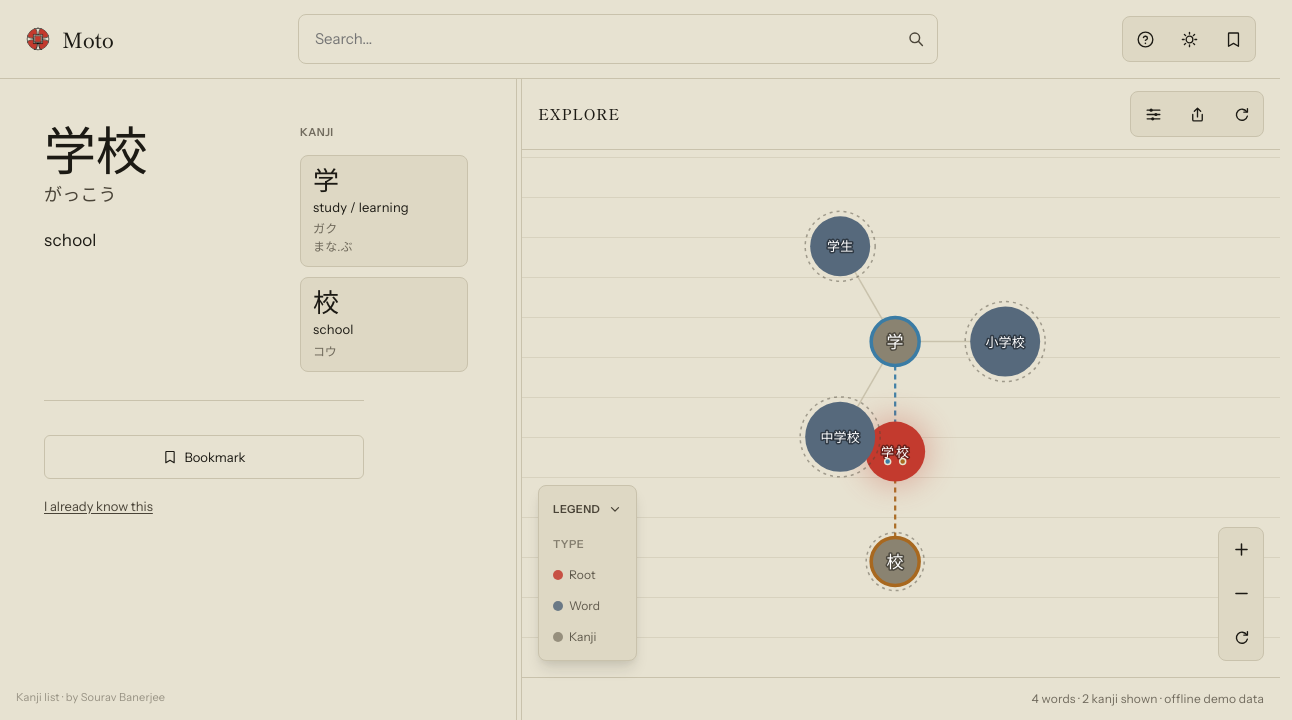
Test: explore URLs in the app › Share copies the graph's link where there's no share sheet
Click the button named "Share this graph". click: (1197, 114)
box: [1175, 92, 1219, 136]
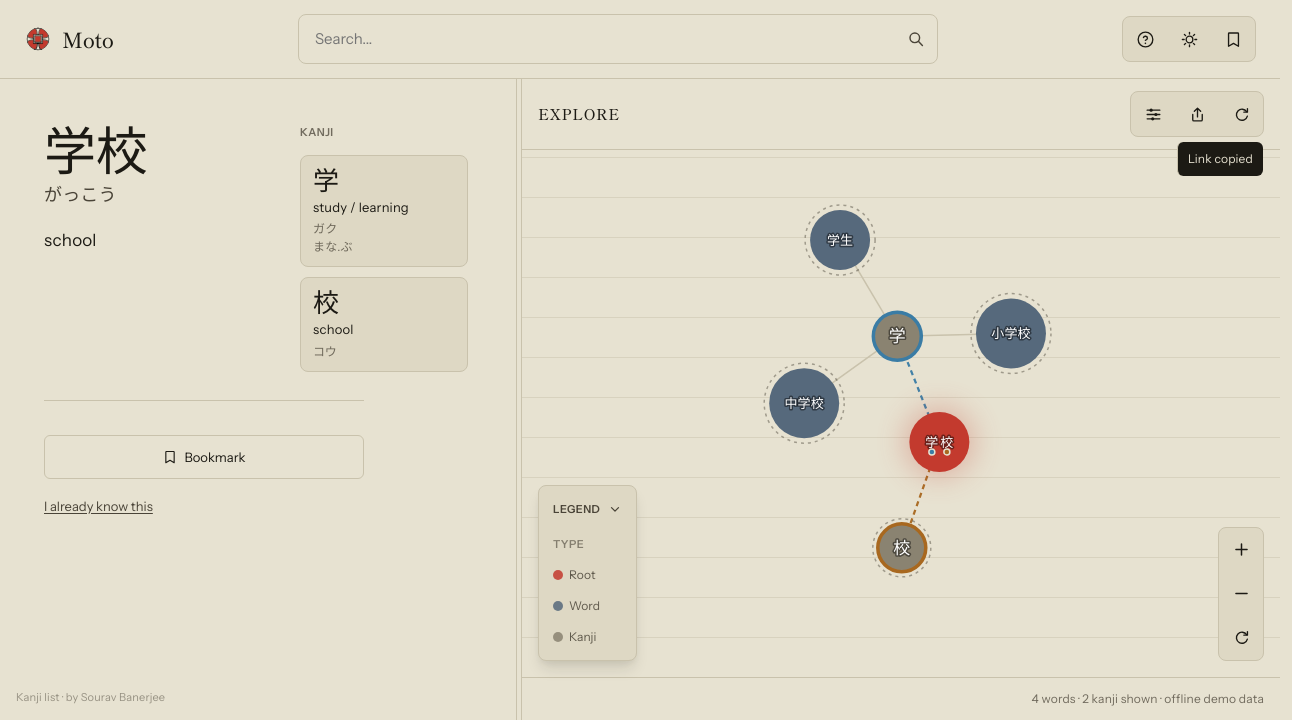
Result: the text "Link copied" is shown at [1177, 142, 1263, 176]
